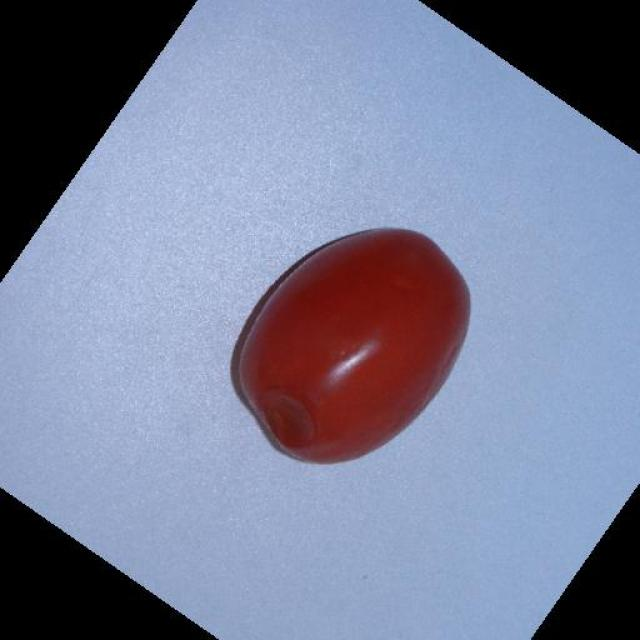Stale_tomato: (250, 372, 339, 463)
